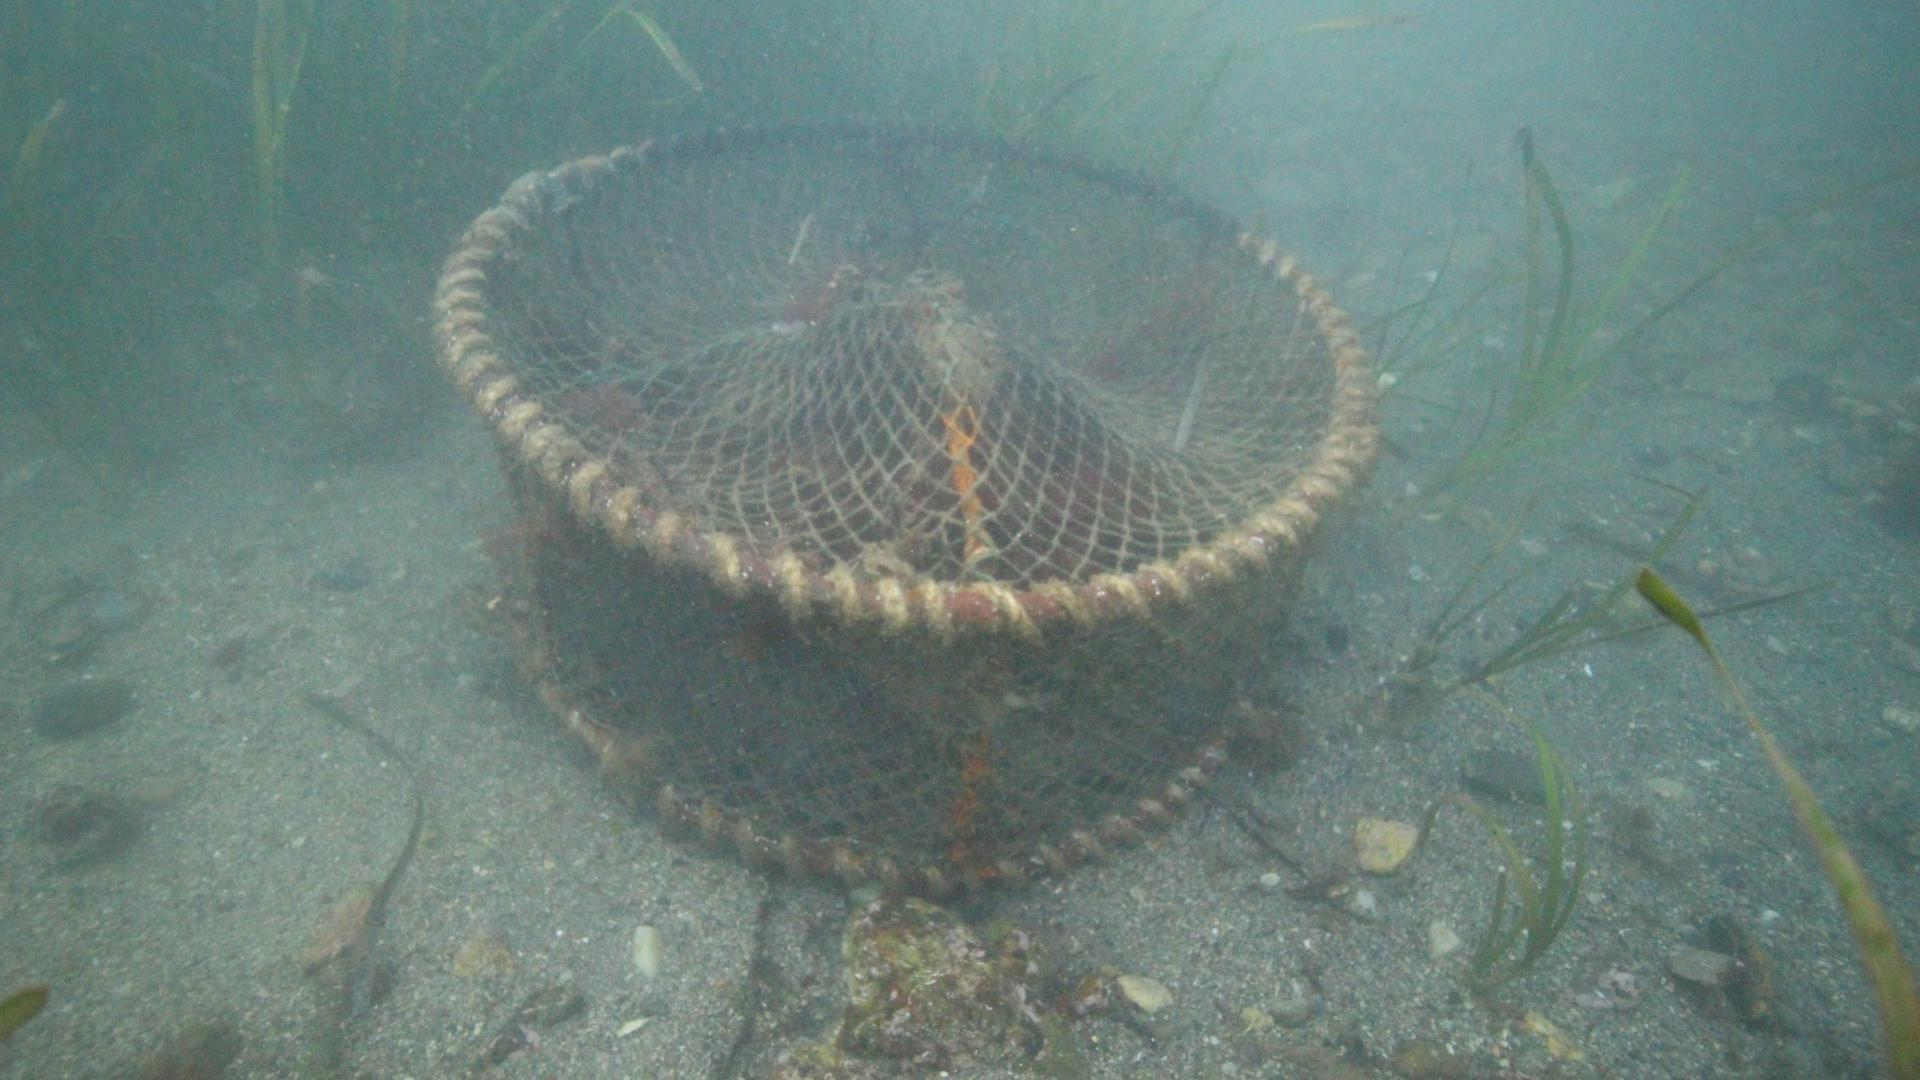circular fish trap: (429, 115, 1385, 895)
